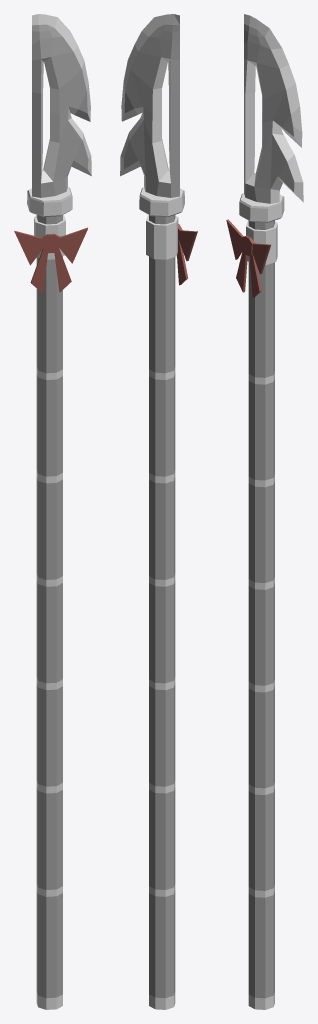
Rendered from Harpoon(1).glb.
3 renders of one model, left to right at view 1: azimuth 30°, elevation 25°; view 2: azimuth 150°, elevation 25°; view 3: azimuth 330°, elevation 25°, orthographic.
Visible parts, largest first — view 1: Evils Harpoon; view 2: Evils Harpoon; view 3: Evils Harpoon.
Boxes of the visible parts, x1=… form: Evils Harpoon: x1=14, y1=14, x2=91, y2=1009; Evils Harpoon: x1=120, y1=14, x2=197, y2=1009; Evils Harpoon: x1=226, y1=14, x2=303, y2=1009.
Size of the model in its own units: 0.0999 by 1.22 by 0.0607.
4 materials, 2 textured.
